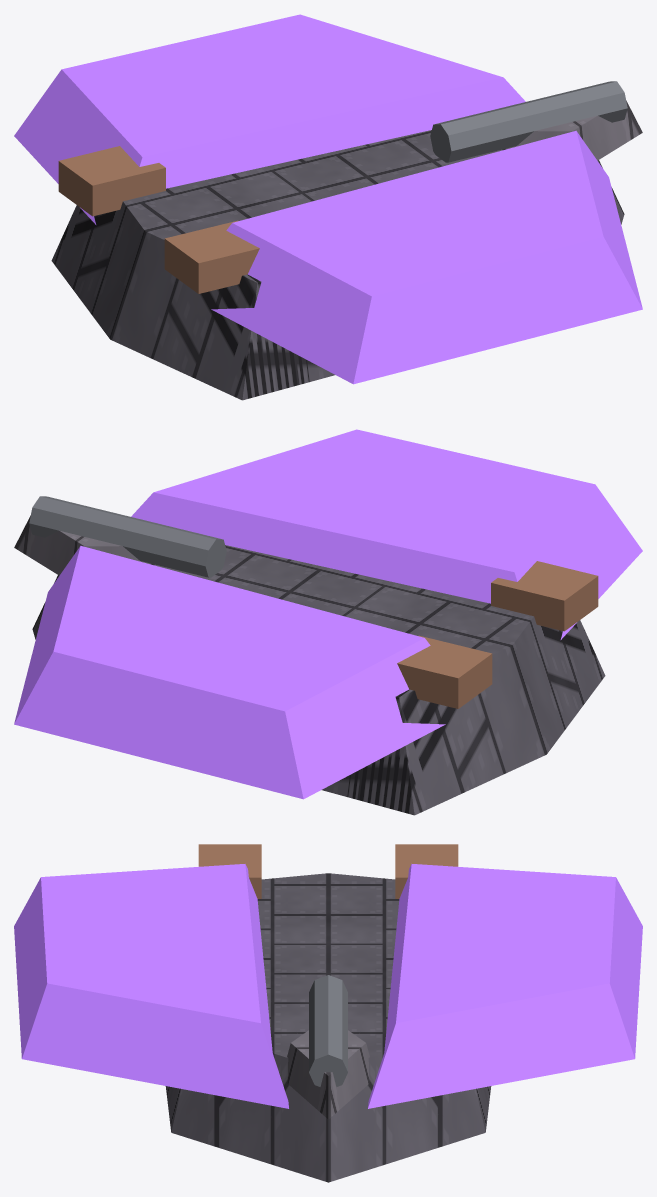
The model's file is bulwark_iris.glb.
The picture shows the model from 3 angles, top to bottom: view 1: azimuth 30°, elevation 25°; view 2: azimuth 150°, elevation 25°; view 3: azimuth 270°, elevation 25°; orthographic projection. The views are drawn at different scales.
Size of the model in its own units: 14.5 by 3.5 by 16.
5 materials, 2 textured.
